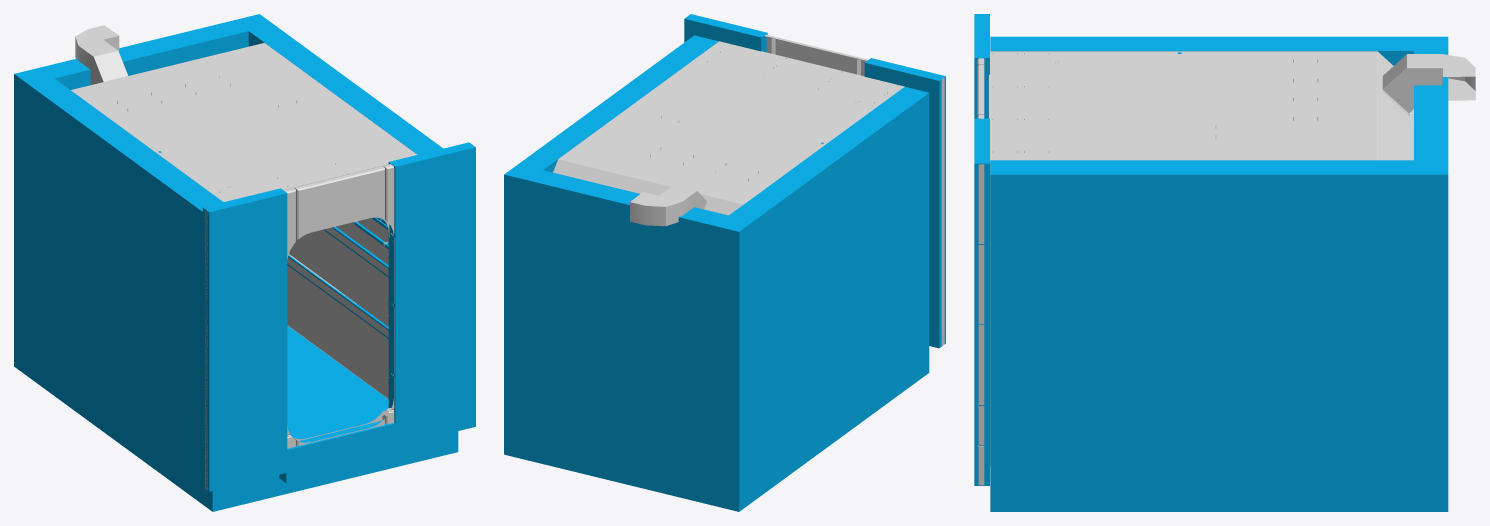
File: SM_Interior1_1.glb
3 views of the same model, side by side, from view 1: azimuth 30°, elevation 25°; view 2: azimuth 150°, elevation 25°; view 3: azimuth 270°, elevation 25° (orthographic). The views are drawn at different scales.
Visible parts, largest first — view 1: SM_Interior2_convcolonly_073, SM_Interior1, SM_Interior2_convcolonly_057, SM_Interior2_convcolonly_058, SM_Interior2_convcolonly_075, SM_Interior2_convcolonly_072, SM_TrimConcrete1_DoorFrame, SM_Interior2_convcolonly_074, SM_Interior2_convcolonly_059, SM_Details1_1.001, SM_Interior2_convcolonly_024; view 2: SM_Interior2_convcolonly_075, SM_Interior2_convcolonly_073, SM_Interior1, SM_Interior2_convcolonly_057, SM_Interior2_convcolonly_074, SM_TrimConcrete1_DoorFrame, SM_Interior2_convcolonly_058; view 3: SM_Interior2_convcolonly_074, SM_Interior1, SM_Interior2_convcolonly_075, SM_Interior2_convcolonly_073, SM_Interior2_convcolonly_058, SM_TrimConcrete1_DoorFrame, SM_Interior2_convcolonly_057.
Boxes of the visible parts, left/top/right/bottom form: SM_Interior2_convcolonly_073: left=29, top=78, right=238, bottom=511; SM_Interior1: left=71, top=25, right=417, bottom=441; SM_Interior2_convcolonly_057: left=202, top=188, right=287, bottom=491; SM_Interior2_convcolonly_058: left=388, top=142, right=475, bottom=446; SM_Interior2_convcolonly_075: left=14, top=14, right=273, bottom=376; SM_Interior2_convcolonly_072: left=238, top=325, right=432, bottom=505; SM_TrimConcrete1_DoorFrame: left=205, top=144, right=472, bottom=489; SM_Interior2_convcolonly_074: left=248, top=25, right=458, bottom=457; SM_Interior2_convcolonly_059: left=279, top=420, right=402, bottom=483; SM_Details1_1.001: left=287, top=227, right=388, bottom=337; SM_Interior2_convcolonly_024: left=287, top=255, right=388, bottom=338; SM_Interior2_convcolonly_075: left=504, top=164, right=753, bottom=511; SM_Interior2_convcolonly_073: left=729, top=87, right=929, bottom=501; SM_Interior1: left=553, top=41, right=904, bottom=226; SM_Interior2_convcolonly_057: left=864, top=58, right=945, bottom=348; SM_Interior2_convcolonly_074: left=518, top=35, right=718, bottom=172; SM_TrimConcrete1_DoorFrame: left=686, top=17, right=944, bottom=346; SM_Interior2_convcolonly_058: left=684, top=14, right=767, bottom=52; SM_Interior2_convcolonly_074: left=990, top=160, right=1413, bottom=511; SM_Interior1: left=988, top=51, right=1475, bottom=465; SM_Interior2_convcolonly_075: left=1414, top=36, right=1448, bottom=511; SM_Interior2_convcolonly_073: left=990, top=36, right=1413, bottom=65; SM_Interior2_convcolonly_058: left=974, top=118, right=989, bottom=485; SM_TrimConcrete1_DoorFrame: left=977, top=58, right=984, bottom=485; SM_Interior2_convcolonly_057: left=974, top=14, right=989, bottom=118.
Size of the model in its own units: 2.4 by 2.64 by 3.39.
